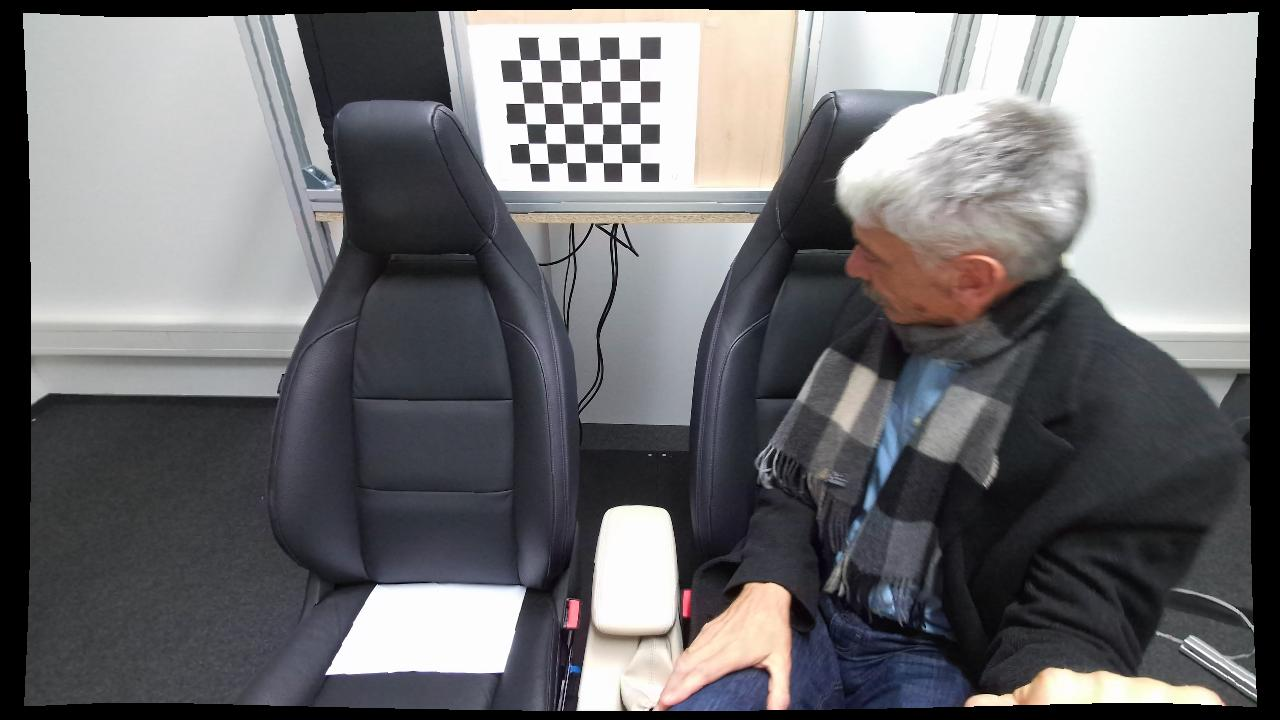Distracted: (679, 91, 1200, 703)
